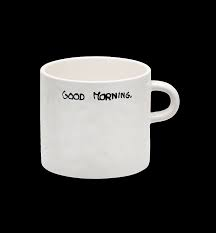mug: (30, 48, 188, 198)
